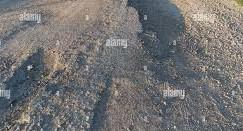pothole: (121, 0, 193, 69), (3, 45, 61, 123), (88, 74, 117, 131)
